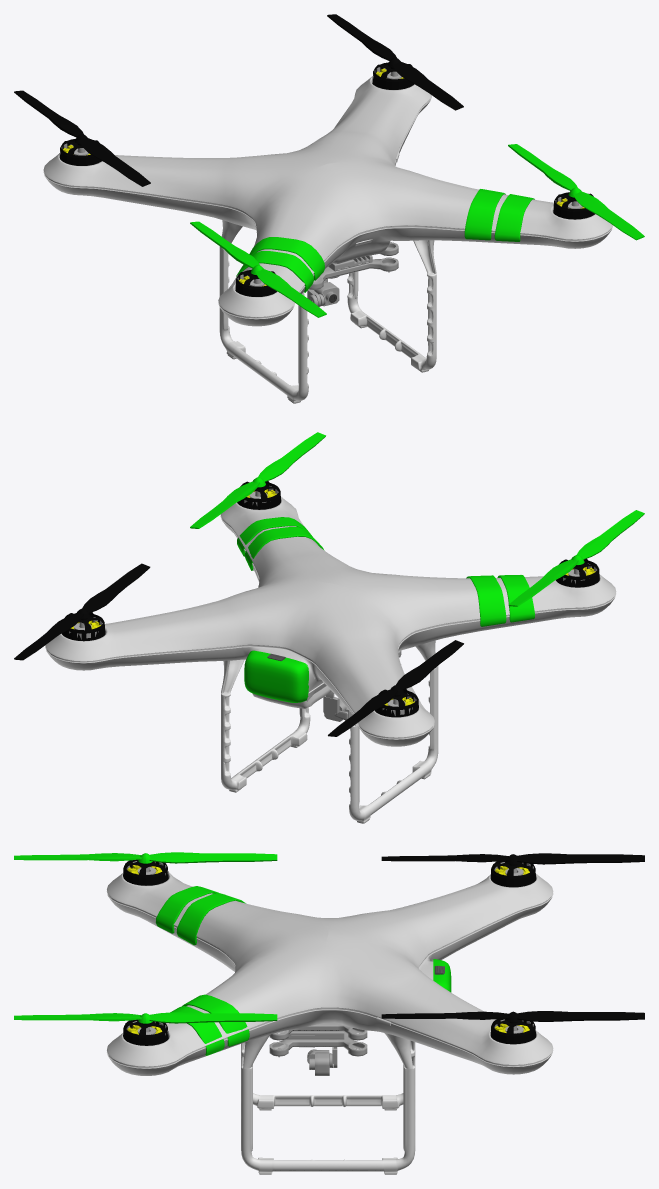
Rendered from droneV2.fbx.
3 views of the same model, one above another, from view 1: azimuth 30°, elevation 25°; view 2: azimuth 150°, elevation 25°; view 3: azimuth 270°, elevation 25° (orthographic). The views are drawn at different scales.
Visible parts, largest first — view 1: polySurface35Shape, polySurfaceShape (×3), polySurfaceShape36, polySurface102, polySurface103, polySurface104, polySurface101, polySurface53Shape, polySurface93, polySurface92, polySurface94, polySurface91; view 2: polySurface35Shape, polySurfaceShape (×4), polySurfaceShape36, polySurface104, polySurface103, polySurface101, polySurface102, polySurface92, polySurface91, polySurface93, polySurface94; view 3: polySurface35Shape, polySurfaceShape (×4), polySurfaceShape36, polySurface102, polySurface101, polySurface104, polySurface103, polySurface53Shape, polySurface94, polySurface92, polySurface91, polySurface93 (+2 smaller).
Part boxes in pixels (x1,y1,x2,y2): polySurface35Shape: (43, 76, 612, 326); polySurfaceShape (×3): (219, 189, 534, 402); polySurfaceShape36: (236, 237, 324, 292); polySurface102: (508, 144, 644, 240); polySurface103: (327, 14, 463, 110); polySurface104: (14, 90, 150, 186); polySurface101: (190, 221, 326, 317); polySurface53Shape: (309, 257, 398, 289); polySurface93: (372, 62, 414, 89); polySurface92: (553, 192, 594, 219); polySurface94: (59, 138, 101, 165); polySurface91: (235, 269, 276, 296); polySurface35Shape: (45, 497, 616, 746); polySurfaceShape (×4): (221, 517, 438, 822); polySurfaceShape36: (466, 575, 534, 626); polySurface104: (328, 640, 463, 736); polySurface103: (14, 563, 150, 660); polySurface101: (508, 510, 644, 606); polySurface102: (190, 432, 325, 528); polySurface92: (237, 481, 280, 509); polySurface91: (556, 558, 599, 587); polySurface93: (61, 612, 105, 641); polySurface94: (375, 689, 418, 717); polySurface35Shape: (107, 872, 553, 1075); polySurfaceShape (×4): (170, 994, 415, 1173); polySurfaceShape36: (155, 886, 245, 945); polySurface102: (14, 1012, 277, 1023); polySurface101: (14, 852, 277, 863); polySurface104: (381, 853, 644, 864); polySurface103: (381, 1011, 644, 1022); polySurface53Shape: (269, 1032, 367, 1056); polySurface94: (490, 860, 536, 887); polySurface92: (123, 1019, 168, 1045); polySurface91: (123, 859, 168, 885); polySurface93: (490, 1018, 535, 1044).
Size of the model in its own units: 25.88 by 12.95 by 35.64.
